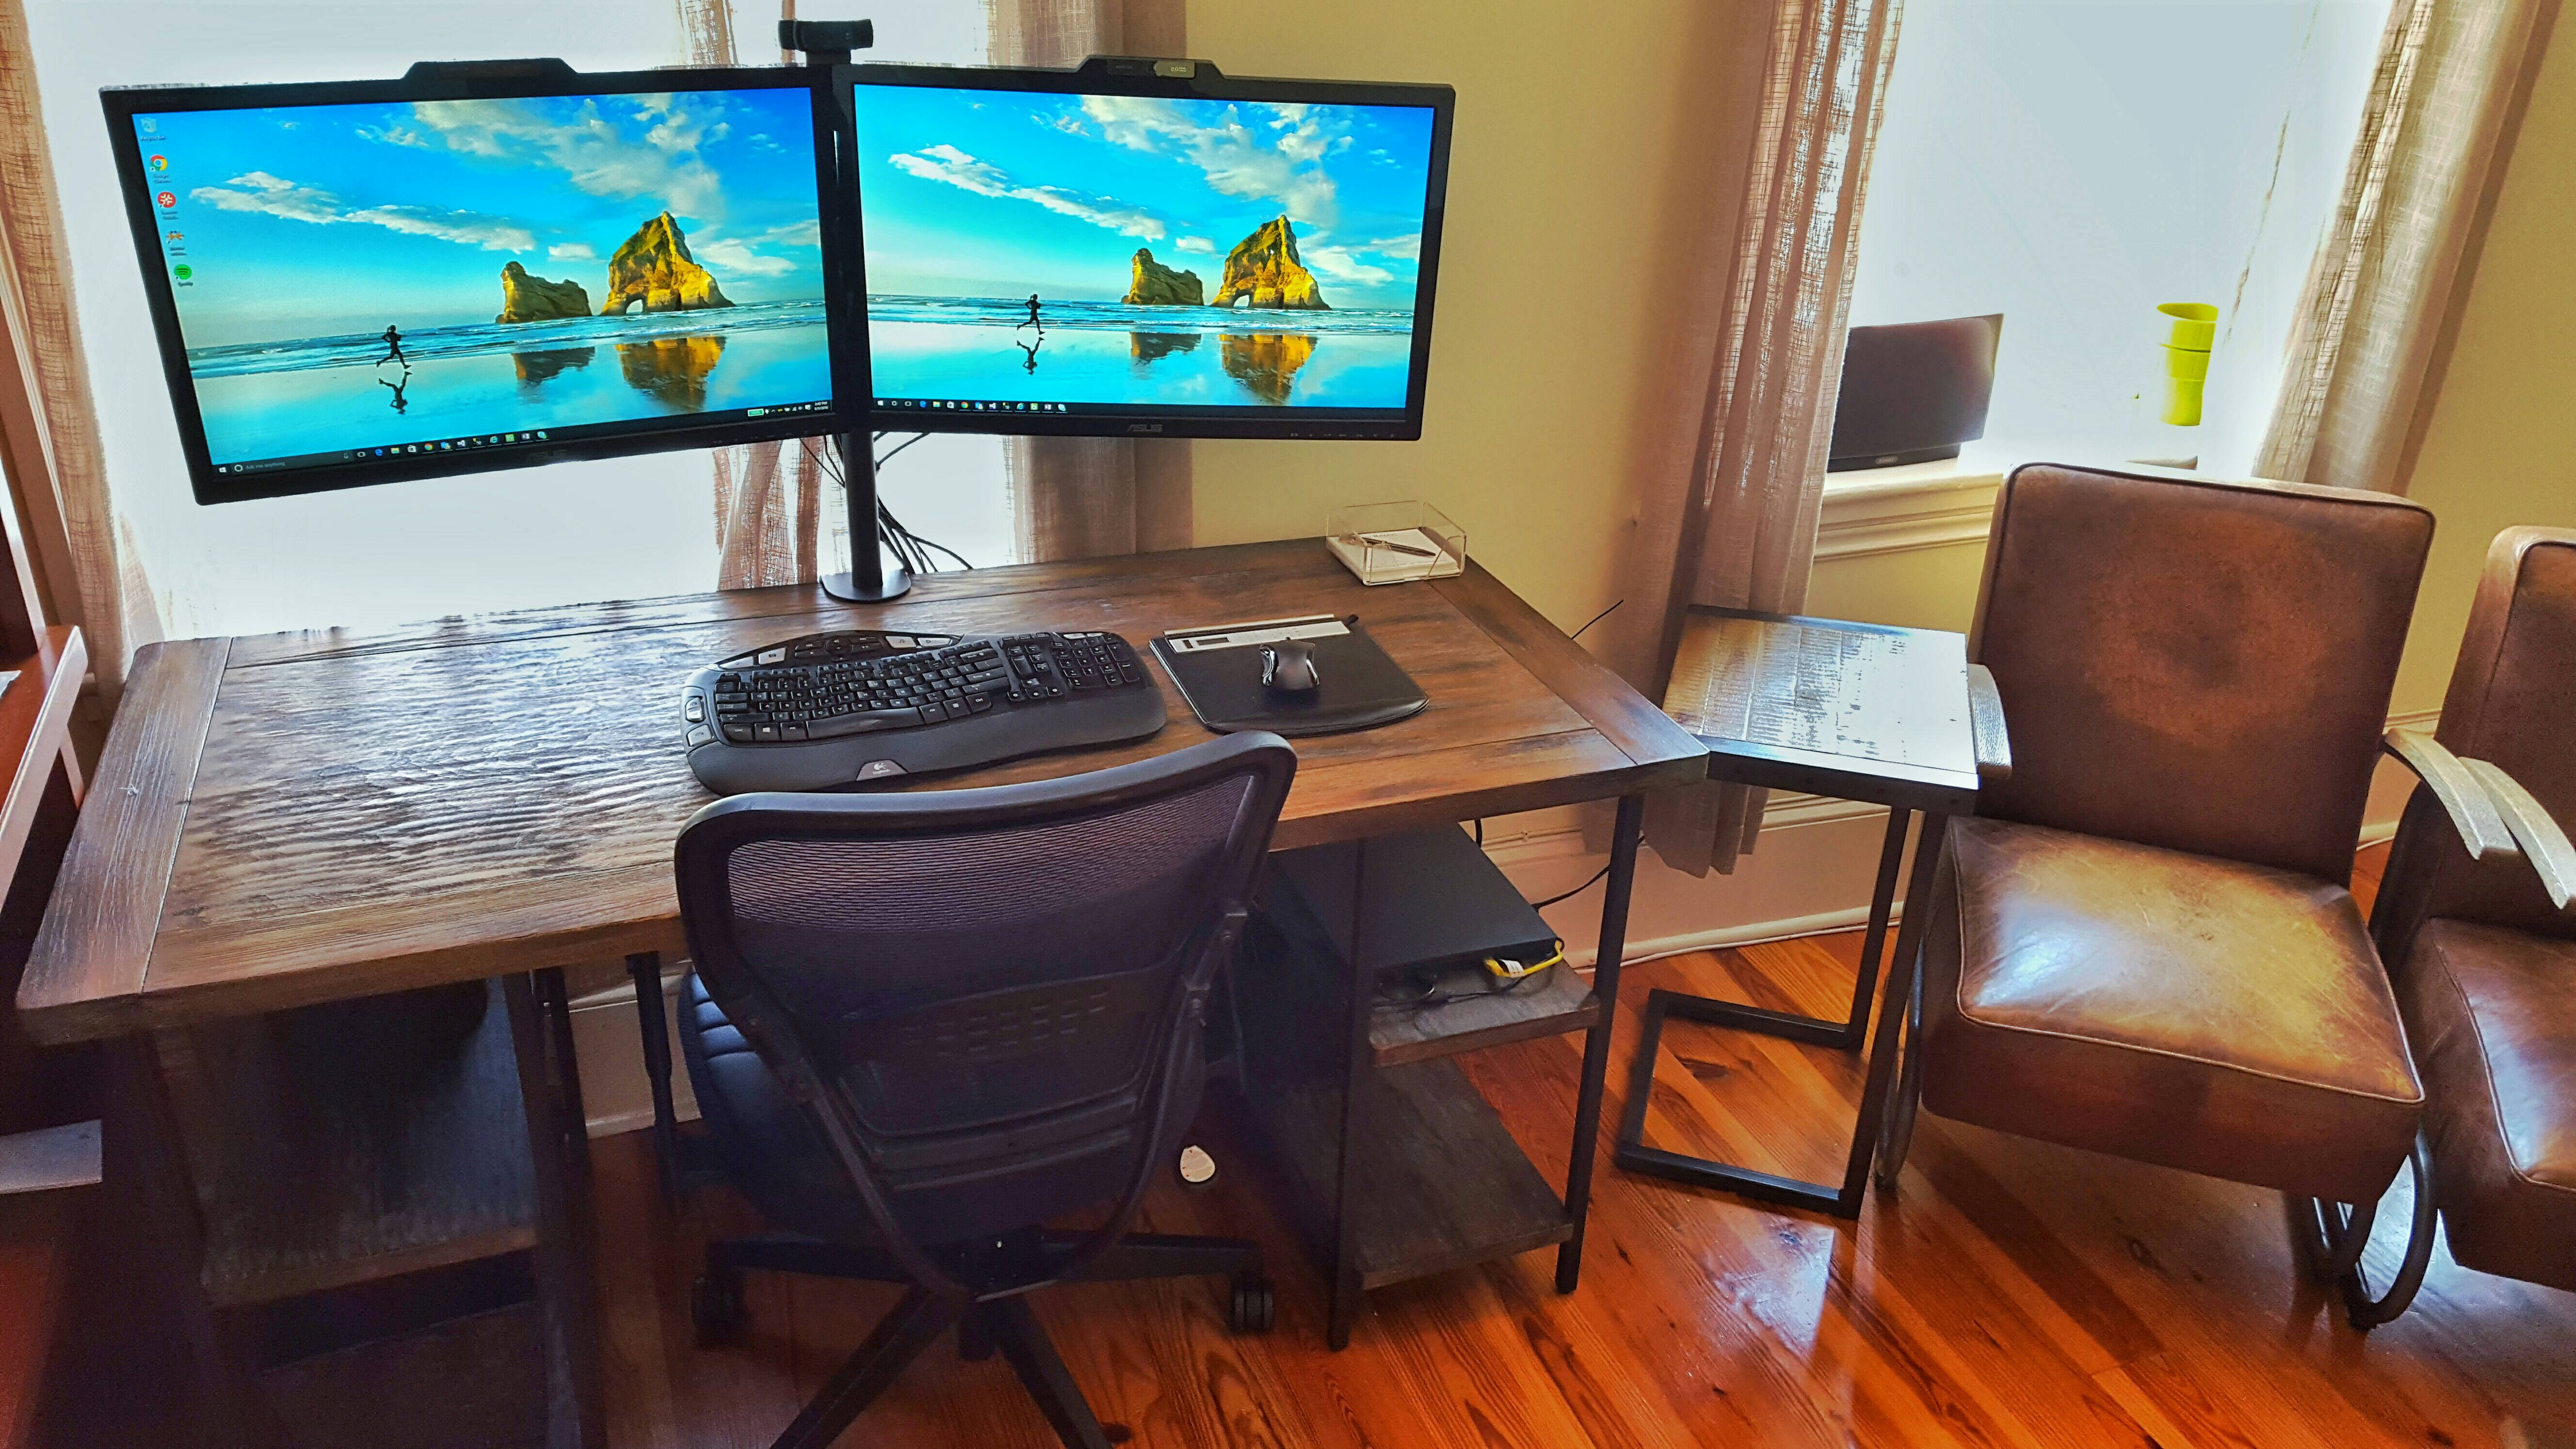Desk (Generic): (7, 536, 1709, 1449)
External Webcam: (778, 18, 876, 65)
Keyboard (Ergonomic): (679, 628, 1169, 800), (1258, 637, 1320, 692)
Lamp (Desk): (674, 725, 1299, 1449)
Laptop (Windows): (1269, 819, 1557, 985)
Monitor (Landscape): (96, 73, 847, 502), (839, 64, 1456, 444)
Monitor Arm: (803, 69, 918, 610)
Mousepad (Generic): (1150, 612, 1430, 736)
Post-it Note: (1325, 501, 1467, 587)
